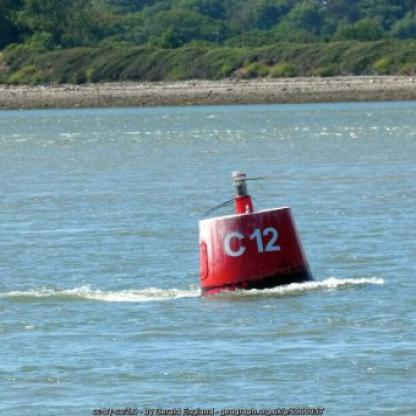buoy: (190, 167, 320, 296)
